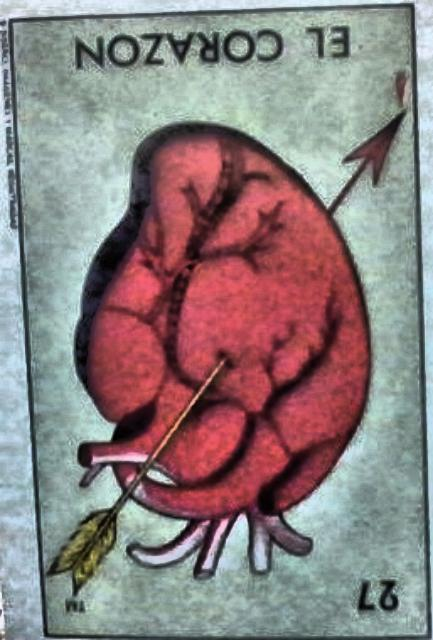El Corazon: (6, 3, 427, 635)
